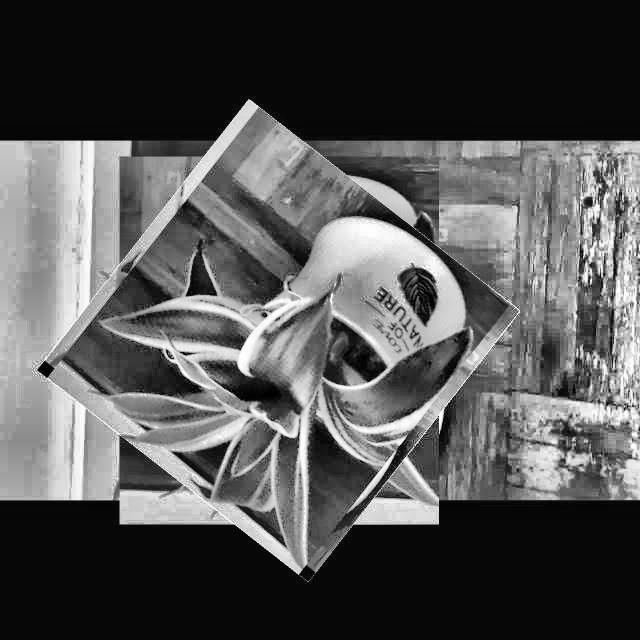plants: (72, 134, 486, 546)
